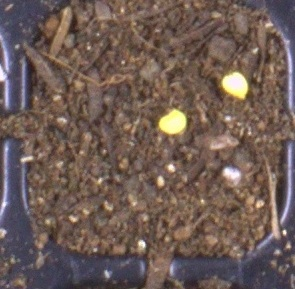chilli seed: (221, 71, 249, 100), (158, 108, 186, 134)
